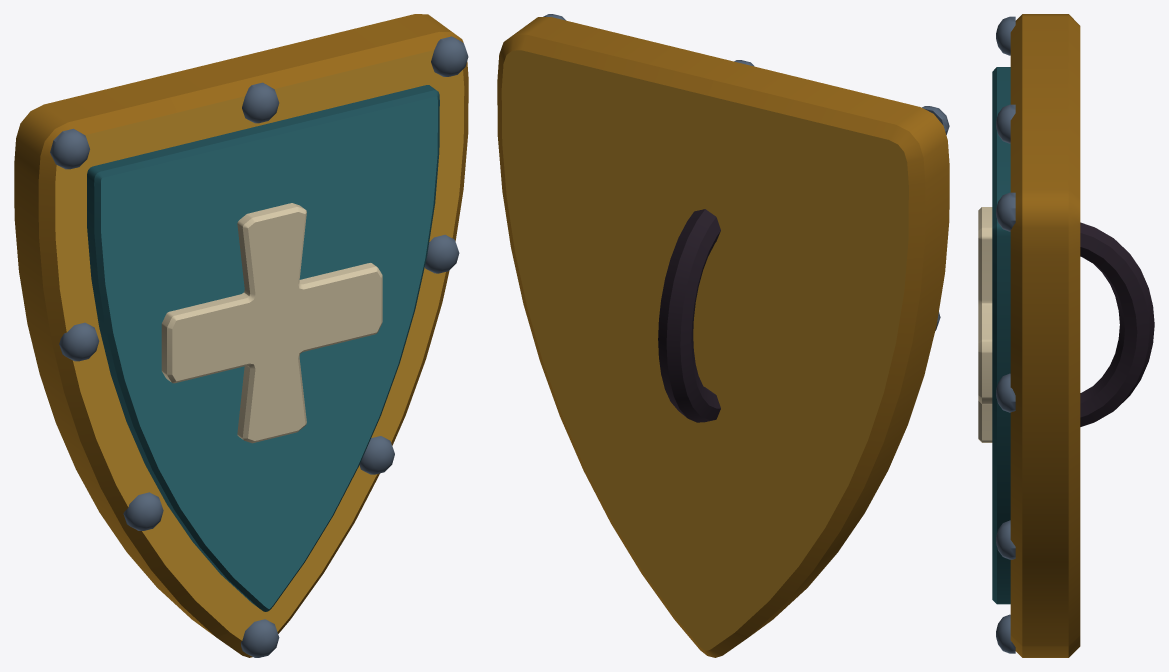
File: HeaterShield_15.glb
3 views of the same model, side by side, from view 1: azimuth 30°, elevation 25°; view 2: azimuth 150°, elevation 25°; view 3: azimuth 270°, elevation 25° (orthographic). The views are drawn at different scales.
Visible parts, largest first — view 1: HeaterShield_15; view 2: HeaterShield_15; view 3: HeaterShield_15.
Part boxes in pixels (x1=…): HeaterShield_15: x1=14, y1=14, x2=468, y2=657; HeaterShield_15: x1=497, y1=14, x2=949, y2=657; HeaterShield_15: x1=978, y1=14, x2=1154, y2=657.
Bounding box in the file's own units: 2.04 × 2.63 × 0.76.
